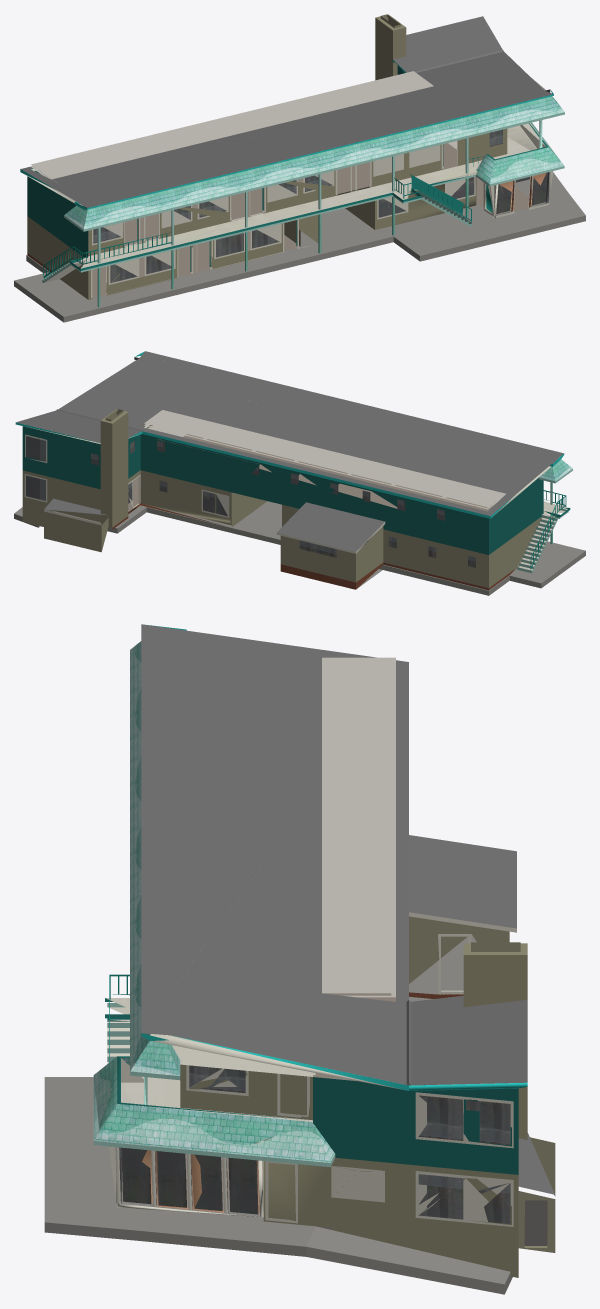
The model's file is roadside-motel.zfix-v3.lod1.glb.
3 renders of one model, top to bottom at view 1: azimuth 30°, elevation 25°; view 2: azimuth 150°, elevation 25°; view 3: azimuth 270°, elevation 25°, orthographic. The views are drawn at different scales.
Visible parts, largest first — view 1: Object_6, Object_5, Object_11, Object_10, Object_4, Object_8; view 2: Object_6, Object_4, Object_8, Object_5, Object_11, Object_10; view 3: Object_6, Object_5, Object_8, Object_11, Object_10, Object_4.
Boxes of the visible parts, left/top/right/bottom form: Object_6: left=14, top=14, right=585, bottom=322; Object_5: left=24, top=77, right=553, bottom=298; Object_11: left=42, top=105, right=564, bottom=282; Object_10: left=64, top=96, right=560, bottom=307; Object_4: left=20, top=60, right=553, bottom=278; Object_8: left=93, top=89, right=550, bottom=282; Object_6: left=14, top=351, right=585, bottom=595; Object_4: left=15, top=351, right=570, bottom=590; Object_8: left=26, top=357, right=475, bottom=567; Object_5: left=24, top=356, right=569, bottom=570; Object_11: left=517, top=461, right=572, bottom=573; Object_10: left=539, top=459, right=569, bottom=543; Object_6: left=44, top=624, right=555, bottom=1294; Object_5: left=103, top=893, right=524, bottom=1226; Object_8: left=119, top=1065, right=510, bottom=1223; Object_11: left=93, top=646, right=335, bottom=1167; Object_10: left=99, top=641, right=334, bottom=1152; Object_4: left=105, top=624, right=527, bottom=1214.
Size of the model in its own units: 37.03 by 9.34 by 17.02.
Materials: 6 (5 with a texture image).
